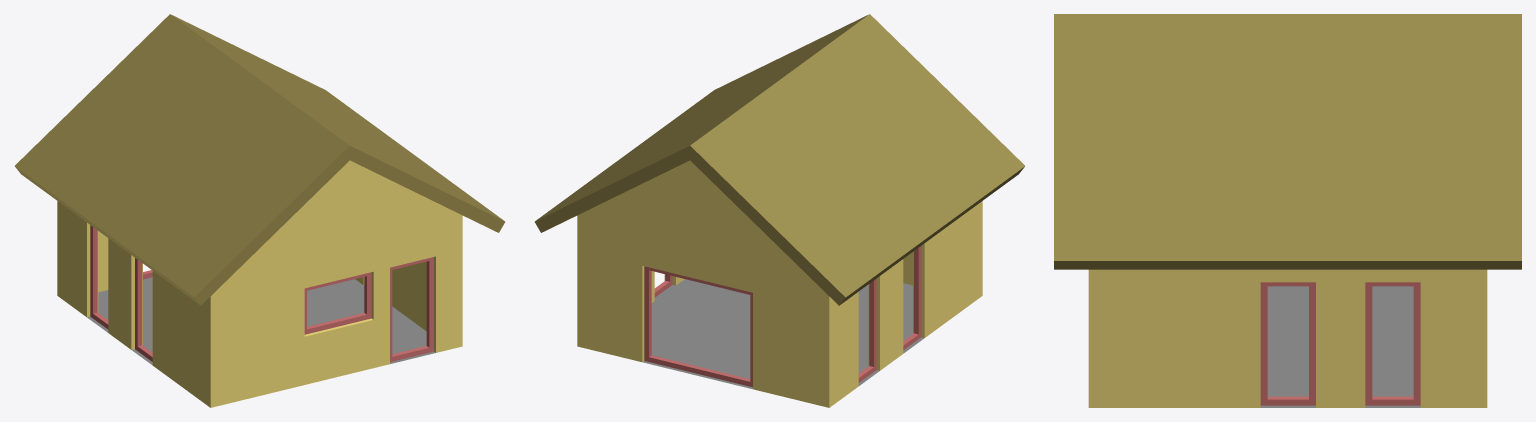
The model's file is result.glb.
3 renders of one model, left to right at view 1: azimuth 30°, elevation 25°; view 2: azimuth 150°, elevation 25°; view 3: azimuth 270°, elevation 25°, orthographic. The views are drawn at different scales.
Parts seen in each view (by area): view 1: 3a298d3d-dabe-42a3-8682-7f2fd0b631f4__undefined (×2), 2ca07a1d-370b-4b75-b8df-293a42826aca__undefined, ef753e06-add9-452f-8374-1d1a7a70b2a6__Plane_8, 7cbe0e1d-b1f1-40a2-8b8a-07166221076d__Box, 0329dc20-cc8b-471a-8319-4c6bbd37633e__Box_3, 1eea4b93-4e7c-4fd2-ba5b-8994e32aaab5__Box_15, 19302a8a-97b5-43b6-838e-799f64b0c870__Box_12; view 2: 3a298d3d-dabe-42a3-8682-7f2fd0b631f4__undefined (×2), 2ca07a1d-370b-4b75-b8df-293a42826aca__undefined, ef753e06-add9-452f-8374-1d1a7a70b2a6__Plane_8, b7523092-e22b-4f7c-904e-c241cfe1d0f2__Box_9, 1eea4b93-4e7c-4fd2-ba5b-8994e32aaab5__Box_15, 19302a8a-97b5-43b6-838e-799f64b0c870__Box_12; view 3: 3a298d3d-dabe-42a3-8682-7f2fd0b631f4__undefined, 2ca07a1d-370b-4b75-b8df-293a42826aca__undefined, ef753e06-add9-452f-8374-1d1a7a70b2a6__Plane_8, 5228e769-15a3-4b38-bceb-f6aa35da154f__Box_21, 2b1a5d3b-8f60-48bf-b2ee-203b3c9f83d4__Box_18.
Part boxes in pixels (bbox=[...]): 3a298d3d-dabe-42a3-8682-7f2fd0b631f4__undefined (×2): bbox=[15, 14, 505, 305]; 2ca07a1d-370b-4b75-b8df-293a42826aca__undefined: bbox=[57, 160, 462, 407]; ef753e06-add9-452f-8374-1d1a7a70b2a6__Plane_8: bbox=[87, 277, 435, 365]; 7cbe0e1d-b1f1-40a2-8b8a-07166221076d__Box: bbox=[390, 257, 433, 361]; 0329dc20-cc8b-471a-8319-4c6bbd37633e__Box_3: bbox=[304, 272, 371, 334]; 1eea4b93-4e7c-4fd2-ba5b-8994e32aaab5__Box_15: bbox=[90, 225, 108, 329]; 19302a8a-97b5-43b6-838e-799f64b0c870__Box_12: bbox=[135, 258, 152, 361]; 3a298d3d-dabe-42a3-8682-7f2fd0b631f4__undefined (×2): bbox=[534, 14, 1024, 305]; 2ca07a1d-370b-4b75-b8df-293a42826aca__undefined: bbox=[577, 160, 982, 407]; ef753e06-add9-452f-8374-1d1a7a70b2a6__Plane_8: bbox=[643, 279, 924, 389]; b7523092-e22b-4f7c-904e-c241cfe1d0f2__Box_9: bbox=[644, 266, 752, 387]; 1eea4b93-4e7c-4fd2-ba5b-8994e32aaab5__Box_15: bbox=[858, 278, 876, 382]; 19302a8a-97b5-43b6-838e-799f64b0c870__Box_12: bbox=[903, 246, 921, 349]; 3a298d3d-dabe-42a3-8682-7f2fd0b631f4__undefined: bbox=[1054, 14, 1521, 269]; 2ca07a1d-370b-4b75-b8df-293a42826aca__undefined: bbox=[1088, 269, 1487, 407]; ef753e06-add9-452f-8374-1d1a7a70b2a6__Plane_8: bbox=[1260, 286, 1420, 407]; 5228e769-15a3-4b38-bceb-f6aa35da154f__Box_21: bbox=[1365, 282, 1420, 405]; 2b1a5d3b-8f60-48bf-b2ee-203b3c9f83d4__Box_18: bbox=[1260, 282, 1315, 405].
Size of the model in its own units: 675 by 500 by 675.
